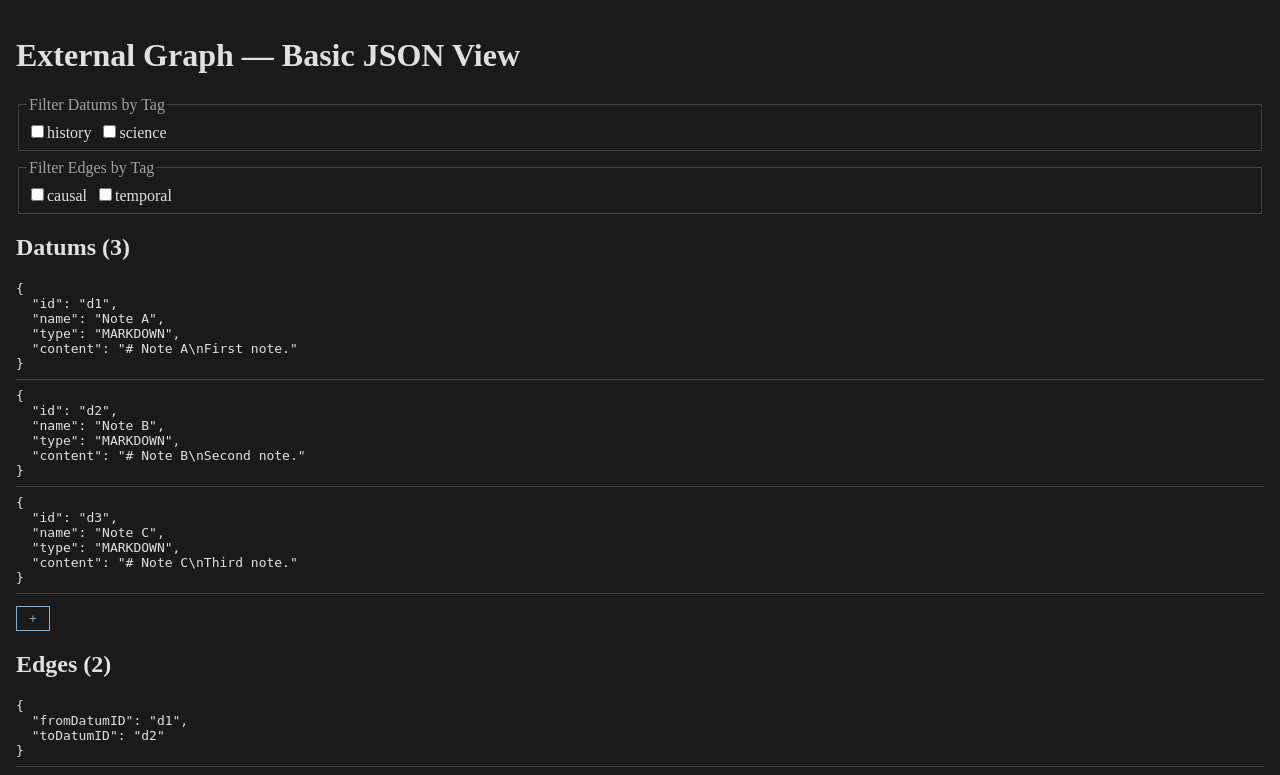
Test: BasicJsonView › filters edges by selected tag
Click the checkbox labelled "temporal" at {"x": 106, "y": 194}, box x1=99 y1=188 x2=112 y2=201
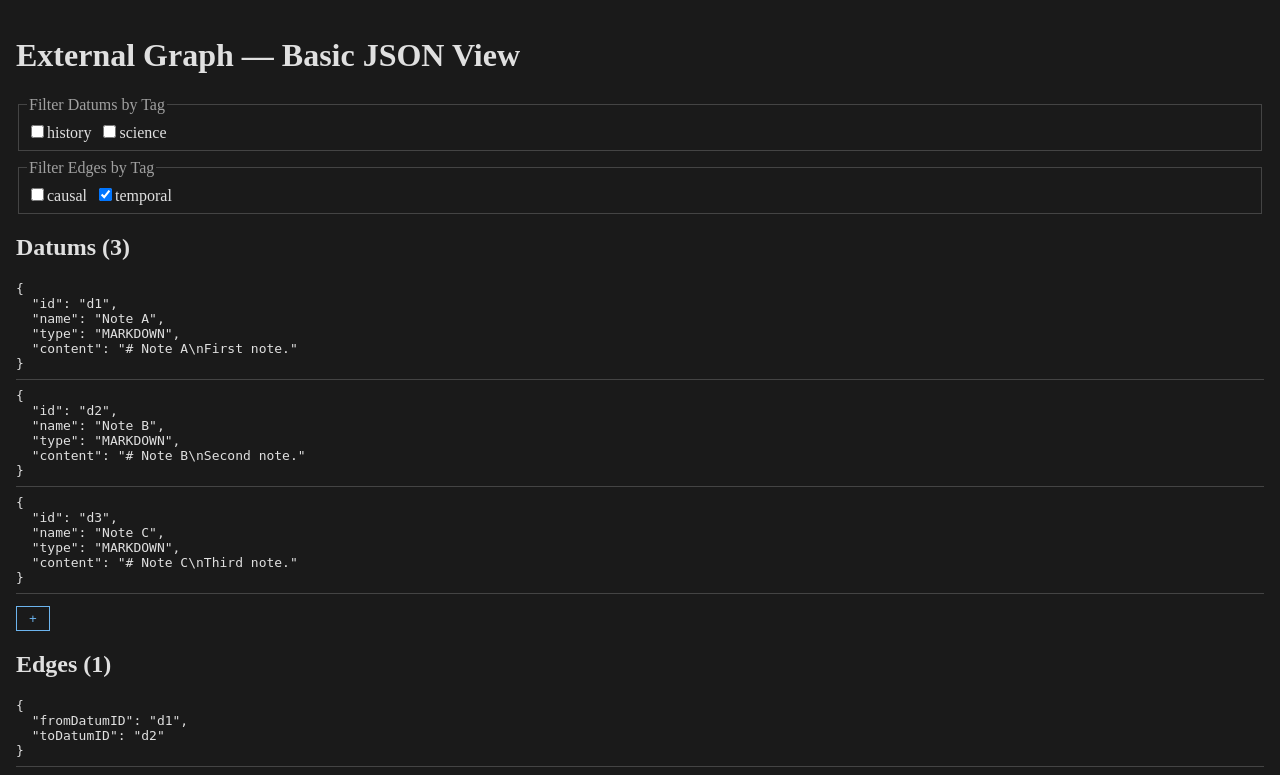
Expected: the element with test id "edges-d1->d2" is shown, x1=16 y1=698 x2=1264 y2=766
Expected: the heading "Edges (1)" is shown, x1=16 y1=651 x2=111 y2=677
